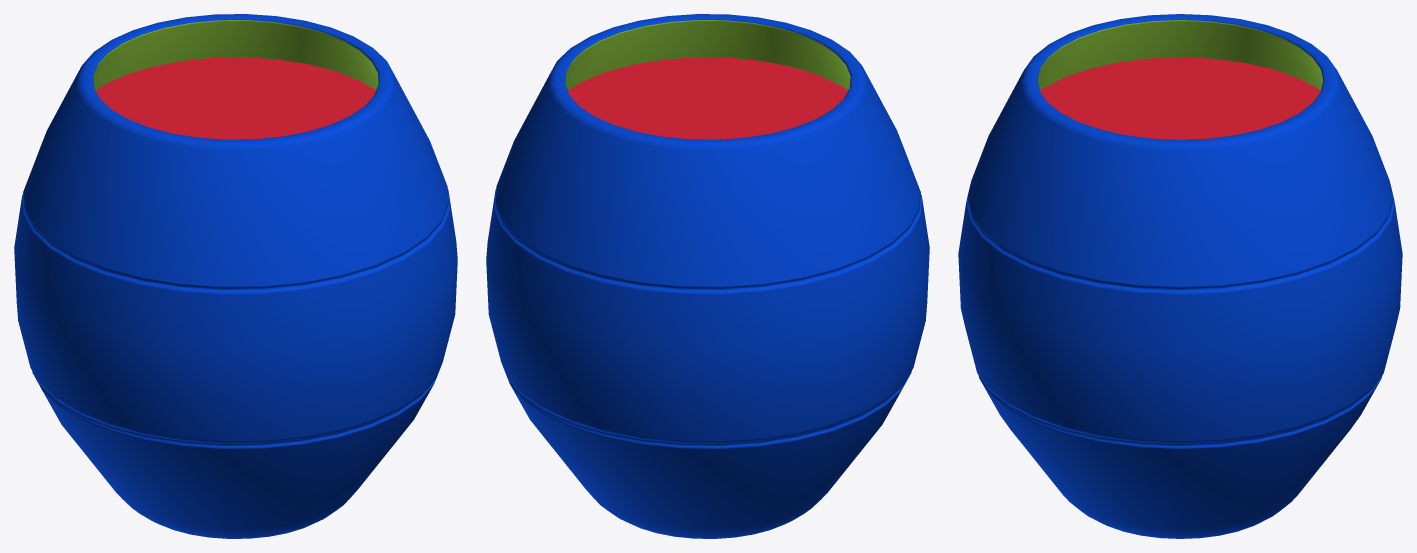
The model's file is Vase.fbx.
The picture shows the model from 3 angles, left to right: view 1: azimuth 30°, elevation 25°; view 2: azimuth 150°, elevation 25°; view 3: azimuth 270°, elevation 25°; orthographic projection.
Parts seen in each view (by area): view 1: Vaso_Planta.001; view 2: Vaso_Planta.001; view 3: Vaso_Planta.001.
Boxes of the visible parts, <box> form: Vaso_Planta.001: <box>14,14,457,538</box>; Vaso_Planta.001: <box>486,14,929,538</box>; Vaso_Planta.001: <box>958,14,1402,538</box>.
Bounding box in the file's own units: 51.79 × 54.26 × 51.79.
